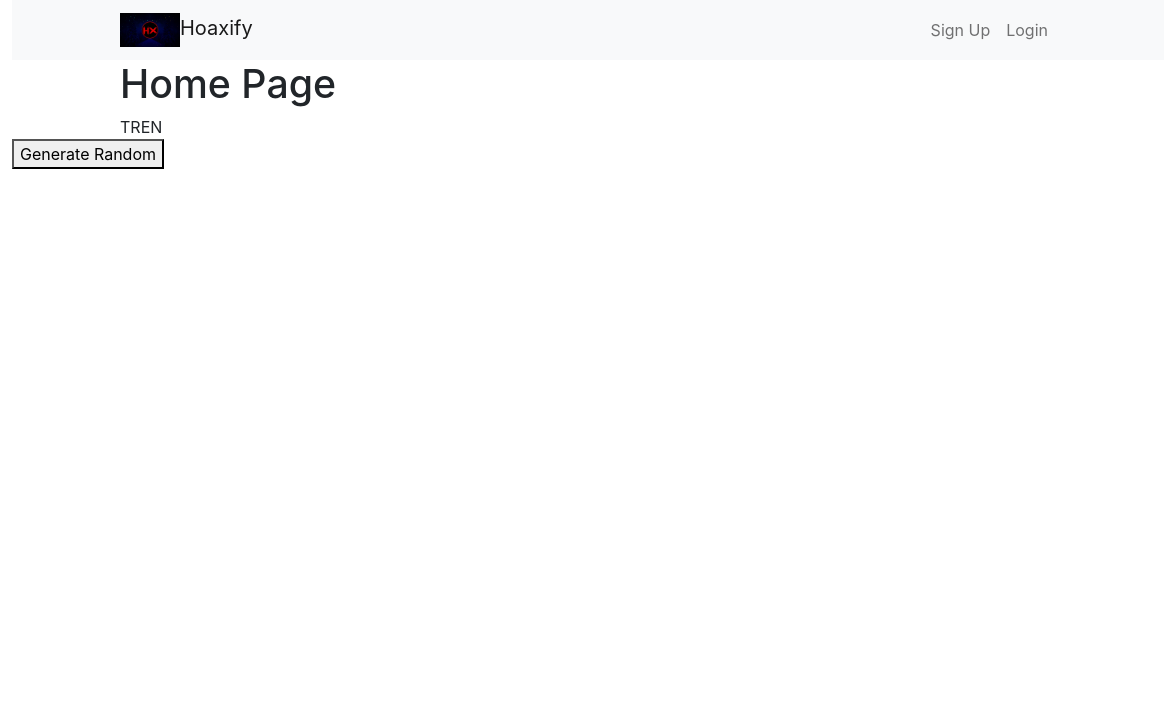
Test case: Routing › displays form-sign-up after clicking Sign Up
Click the link "Sign Up": click(960, 30) [931,20,990,40]
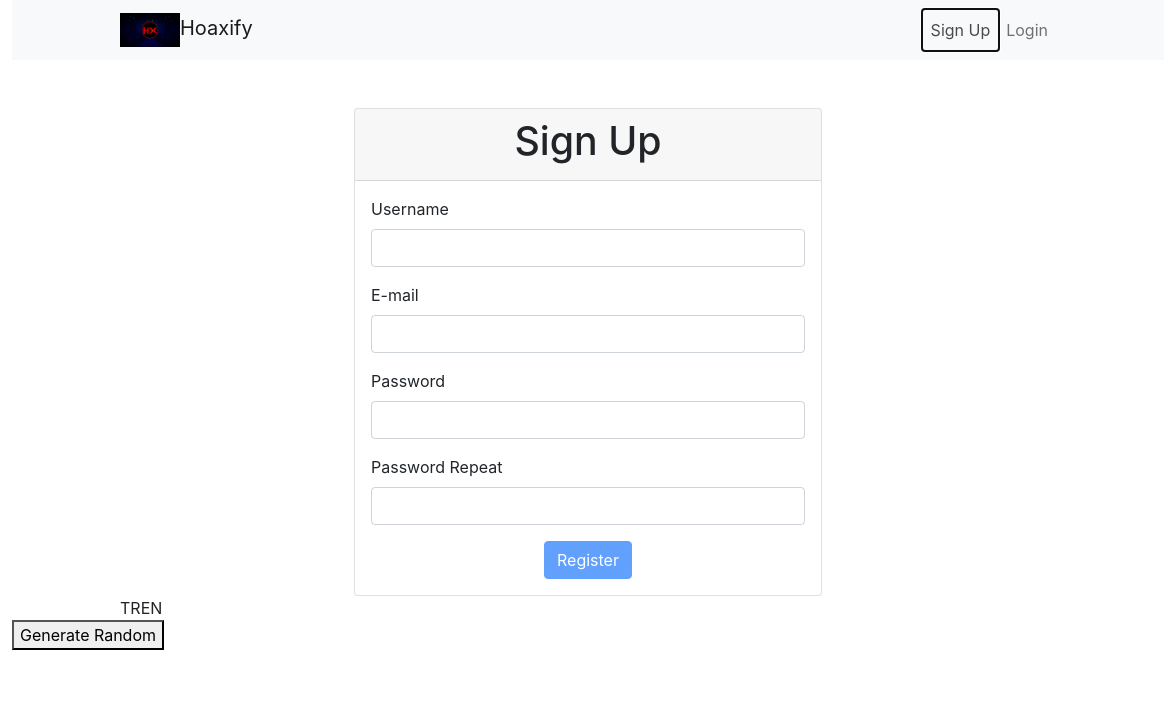
Expected: the form with test id "form-sign-up" is shown, [354,108,822,596]
